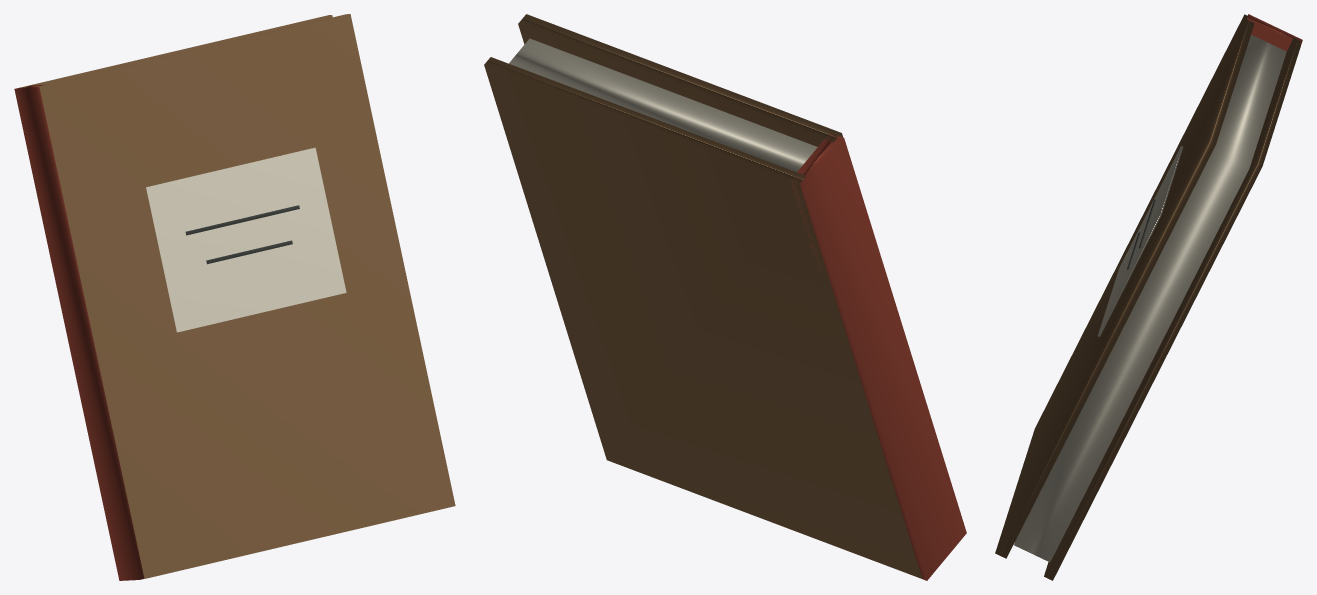
The model's file is pub-orderbook.glb.
3 views of the same model, side by side, from view 1: azimuth 30°, elevation 25°; view 2: azimuth 150°, elevation 25°; view 3: azimuth 270°, elevation 25° (orthographic). The views are drawn at different scales.
Parts seen in each view (by area): view 1: pub_order_book; view 2: pub_order_book; view 3: pub_order_book.
Part boxes in pixels (x1,y1,x2,y2): pub_order_book: (14,14,455,580); pub_order_book: (484,14,966,580); pub_order_book: (995,14,1302,580).
Bounding box in the file's own units: 0.138 × 0.1997 × 0.1224.
